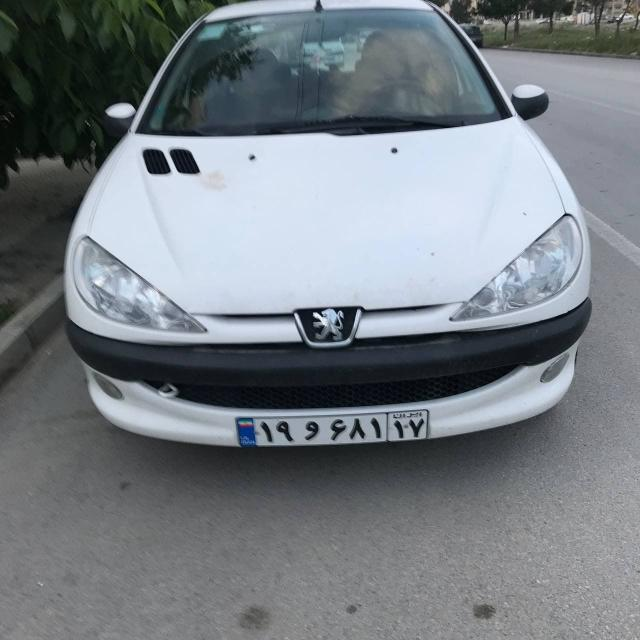Plates: (236, 408, 429, 448)
